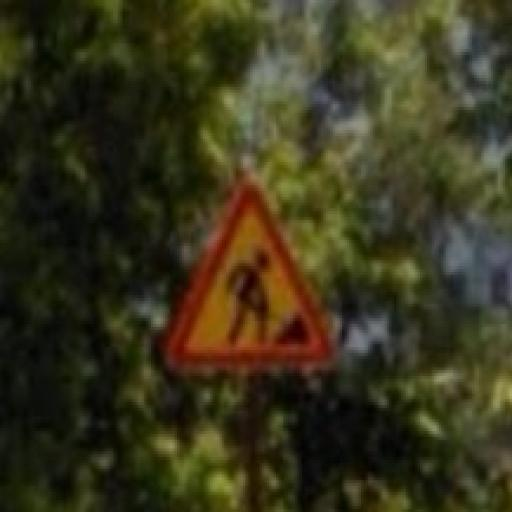traffic_sign: (164, 183, 336, 371)
